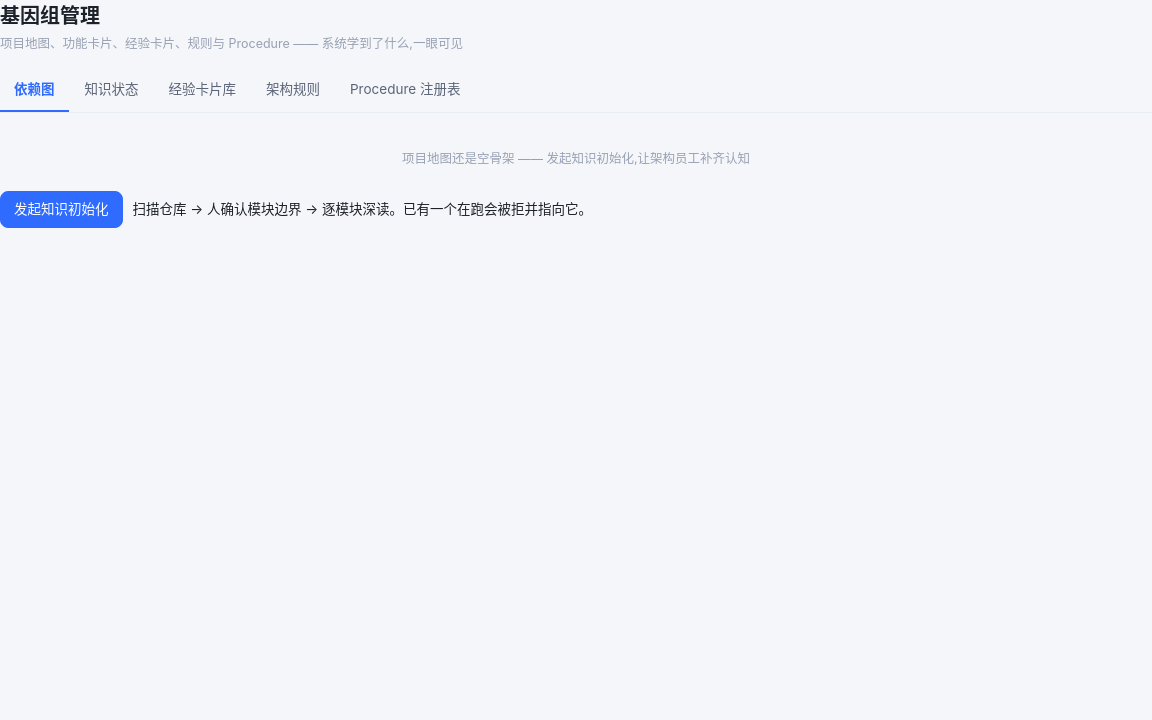
Scenario: 知识初始化入口 › launches knowledge init from the knowledge tab and shows the task id
This screenshot has width=1152, height=720.
Click the button "知识状态" at (112, 91), box [70, 70, 152, 112]
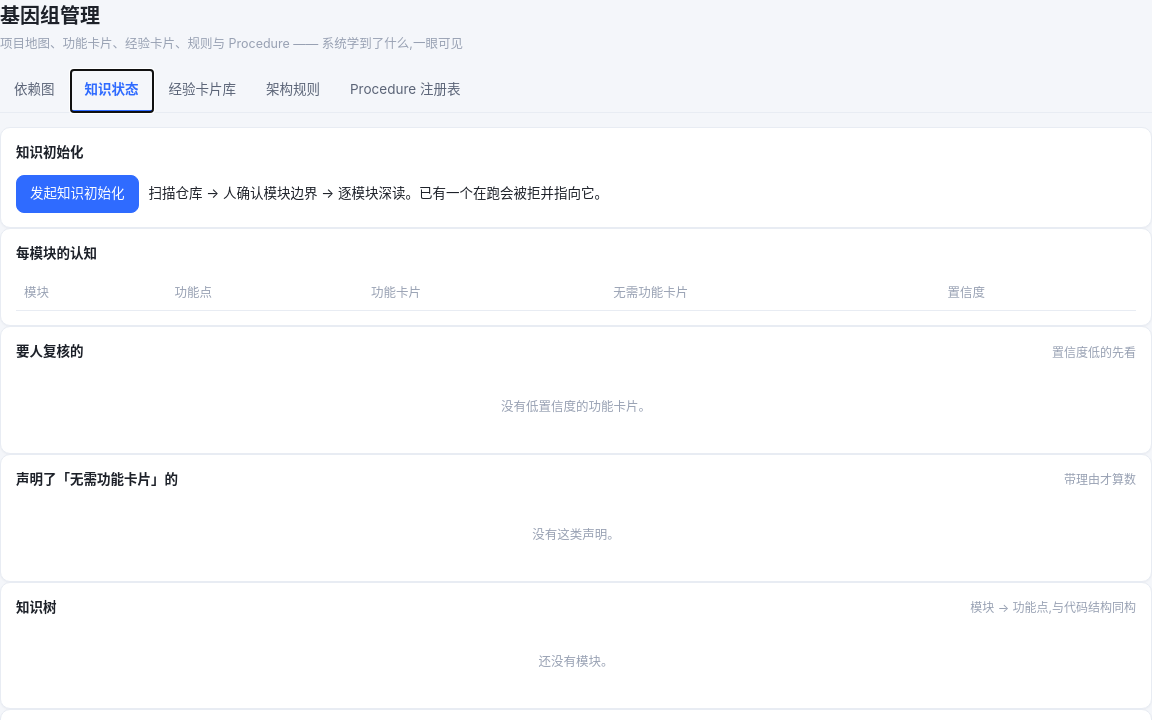
Click the button "发起知识初始化" at (77, 194), box [16, 175, 138, 213]
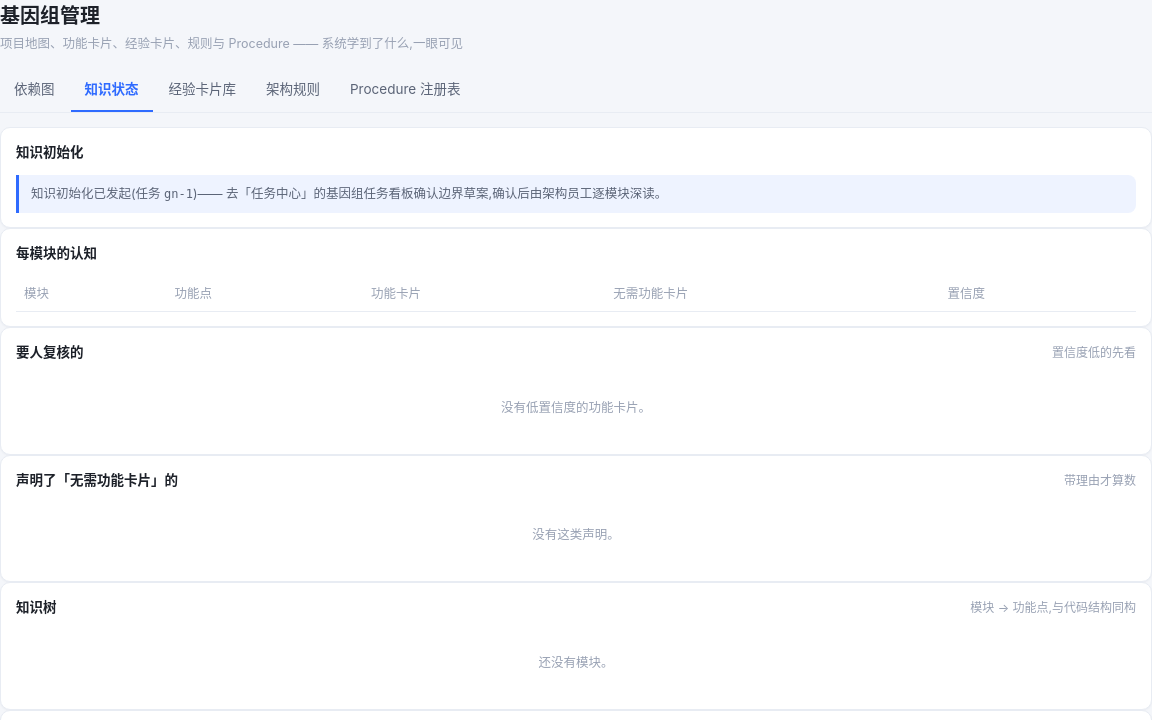
Expected: the text "gn-1" is shown, [164, 187, 193, 201]
Expected: the text "知识初始化已发起(任务 gn-1)—— 去「任务中心」的基因组任务看板确认边界草案,确认后由架构员工逐模块深读。" is shown, [16, 175, 1136, 213]
